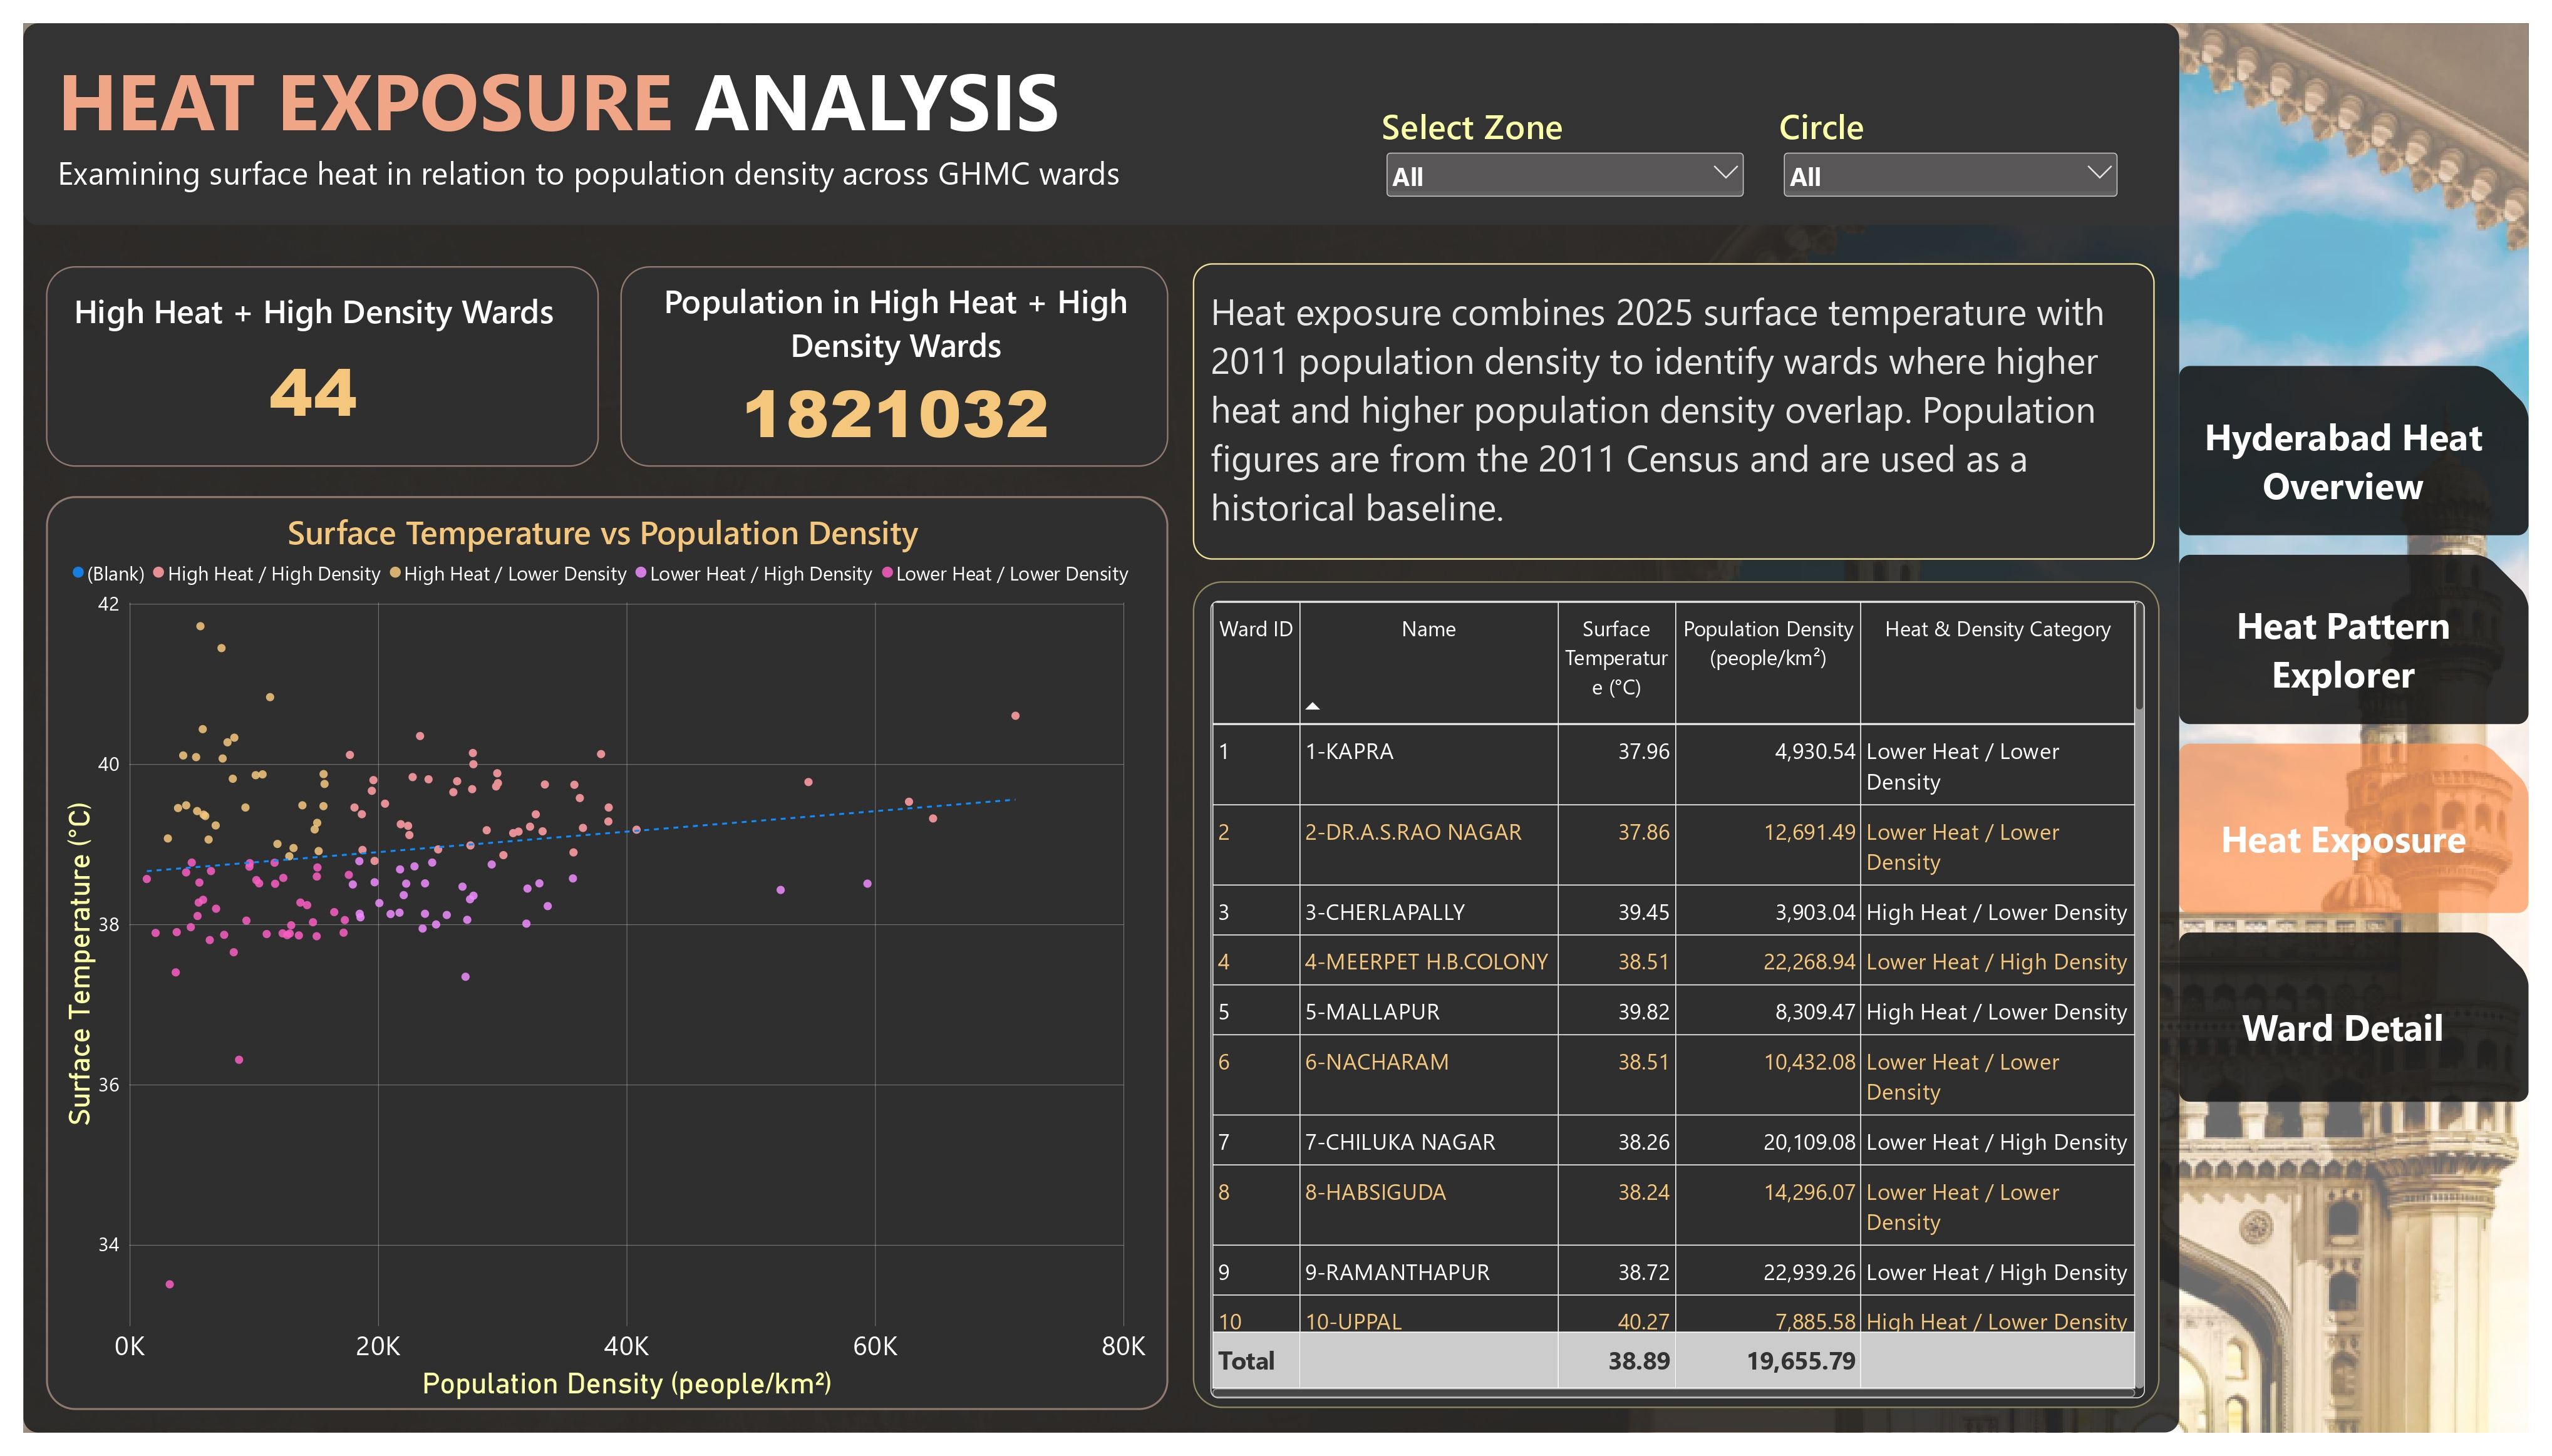

The page's visual inventory and layout, read from the dashboard file:
{"tool":"powerbi","page":{"name":"Heat Exposure","canvas":[2560,1440],"ordinal":2},"visuals":[{"type":"pageNavigator","box":[2202.5,350,357.5,752.5],"z":0},{"type":"shape","box":[0,0,2202.5,1440],"z":1000},{"type":"shape","box":[23.3,483.3,1146.7,933.3],"z":1500},{"type":"scatterChart","title":"Surface Temperature vs Population Density","fields":{"Category":["Ward Heat Analysis.ward_id"],"Series":["Ward Heat Analysis.heat_density_category"],"X":["Avg(Ward Heat Analysis.population_density_2011)"],"Y":["Avg(Ward Heat Analysis.lst_2025_c)"]},"box":[37.1,495.7,1110,910],"z":2000},{"type":"shape","box":[1195,570,987.5,845],"z":2500},{"type":"tableEx","fields":{"Values":["Ward Heat Analysis.ward_id","Ward Heat Analysis.ward_name","Avg(Ward Heat Analysis.lst_2025_c)","Avg(Ward Heat Analysis.population_density_2011)","Ward Heat Analysis.heat_density_category"]},"box":[1212.5,590,955,815],"z":3000},{"type":"shape","box":[22.5,247.5,565,205],"z":4000},{"type":"cardVisual","title":"High Heat + High Density Wards","fields":{"Data":["Ward Heat Analysis.High Heat High Density Wards"]},"box":[37.5,270,517.5,165],"z":5000},{"type":"shape","box":[610,247.5,560,205],"z":6000},{"type":"cardVisual","title":"Population in High Heat + High Density Wards","fields":{"Data":["Ward Heat Analysis.Population in High Heat High Density Wards"]},"box":[640,260,502.5,182.5],"z":7000},{"type":"shape","box":[1195,245,982.5,302.5],"z":8000},{"type":"textbox","box":[1212.5,267.5,955,280],"z":9000},{"type":"shape","box":[0,0,2202,206],"z":10000},{"type":"slicer","title":"Select Zone","fields":{"Values":["Ward Heat Analysis.zone"]},"box":[1387.5,80,375,102.5],"z":11000},{"type":"slicer","title":"Circle","fields":{"Values":["Ward Heat Analysis.circle"]},"box":[1794,80,351,103],"z":12000},{"type":"textbox","box":[35,22.5,1200,182.5],"z":13000}]}

Visuals, with their boxes on the page's 2560x1440 design canvas (x1, y1, x2, y2). These are canvas units, not pixel positions in the 2552x1456 screenshot, which may show the page scaled, cropped or inside an application window:
pageNavigator: x1=2202, y1=350, x2=2560, y2=1102
shape: x1=0, y1=0, x2=2202, y2=1440
shape: x1=23, y1=483, x2=1170, y2=1417
"Surface Temperature vs Population Density" scatterChart: x1=37, y1=496, x2=1147, y2=1406
shape: x1=1195, y1=570, x2=2182, y2=1415
tableEx - Ward Heat Analysis.ward_id x Ward Heat Analysis.ward_name: x1=1212, y1=590, x2=2168, y2=1405
shape: x1=22, y1=248, x2=588, y2=452
"High Heat + High Density Wards" cardVisual: x1=38, y1=270, x2=555, y2=435
shape: x1=610, y1=248, x2=1170, y2=452
"Population in High Heat + High Density Wards" cardVisual: x1=640, y1=260, x2=1142, y2=442
shape: x1=1195, y1=245, x2=2178, y2=548
textbox: x1=1212, y1=268, x2=2168, y2=548
shape: x1=0, y1=0, x2=2202, y2=206
"Select Zone" slicer: x1=1388, y1=80, x2=1762, y2=182
"Circle" slicer: x1=1794, y1=80, x2=2145, y2=183
textbox: x1=35, y1=22, x2=1235, y2=205
